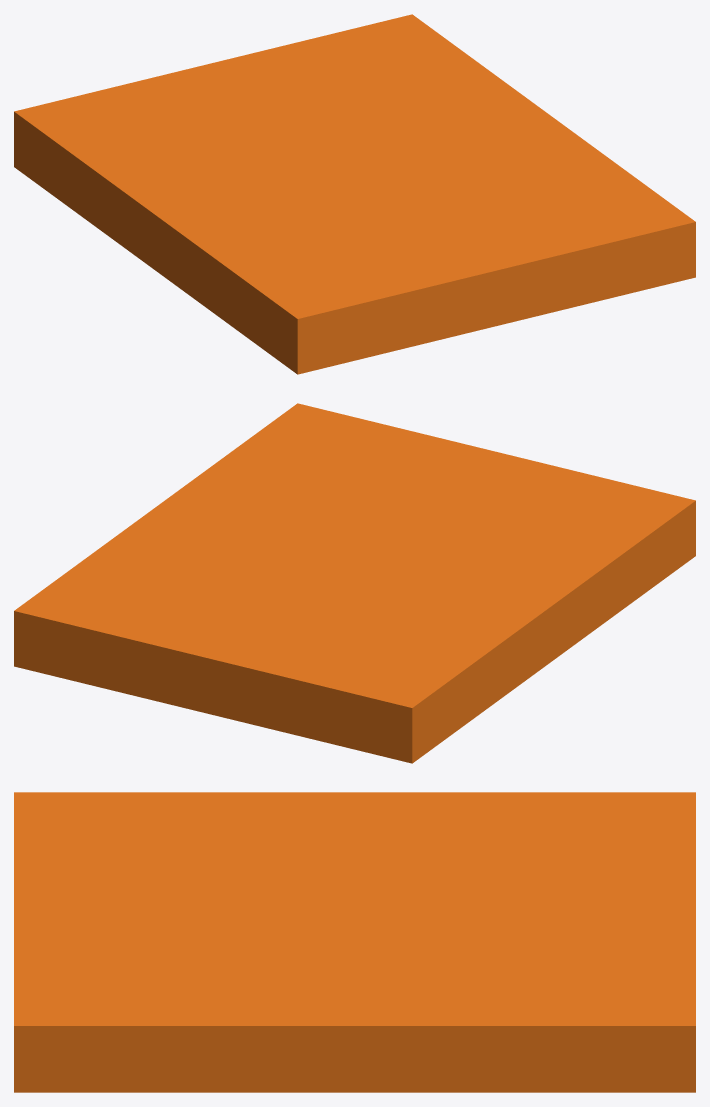
The picture shows the model from 3 angles, top to bottom: view 1: azimuth 30°, elevation 25°; view 2: azimuth 150°, elevation 25°; view 3: azimuth 270°, elevation 25°; orthographic projection. The views are drawn at different scales.
Parts seen in each view (by area): view 1: gripper_frame; view 2: gripper_frame; view 3: gripper_frame.
Part boxes in pixels (<box>): gripper_frame: <box>14,14,695,374</box>; gripper_frame: <box>14,403,695,763</box>; gripper_frame: <box>14,792,695,1092</box>.
Bounding box in the file's own units: 0.03 × 0.004 × 0.037.
